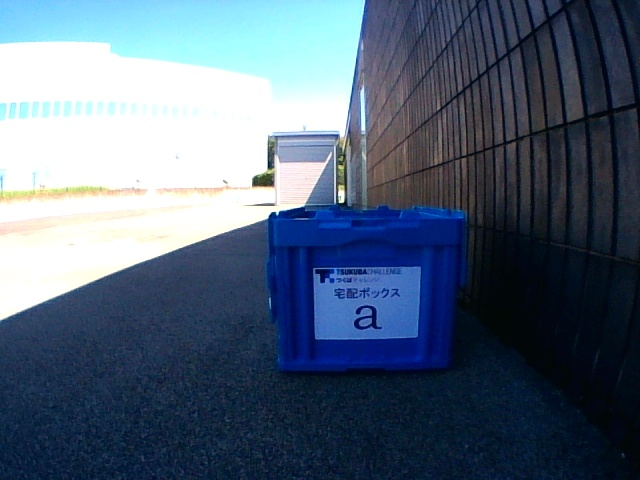blue_box: (267, 205, 467, 372)
tag_a: (314, 268, 418, 337)
